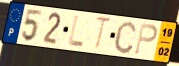2: (42, 12, 62, 46)
5: (21, 8, 44, 43)
C: (112, 20, 137, 55)
L: (67, 14, 85, 48)
P: (133, 22, 159, 56)
T: (93, 15, 113, 53)
